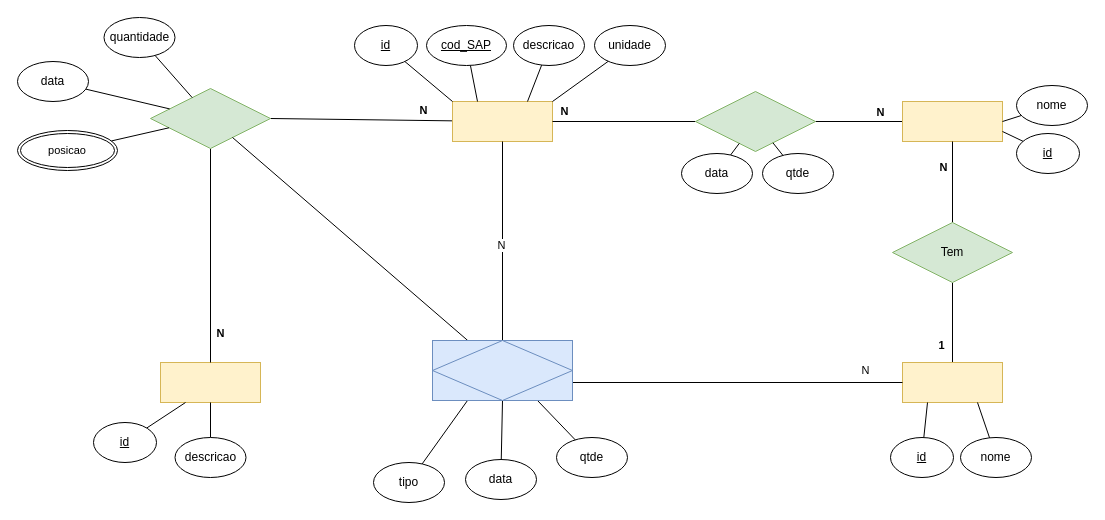
The diagram is 1105 pixels wide and 520 high, and some of its shapes have lost their labels. The shapes that lost their labels are listed below. From the top down, each one's centre as x and y in pixels, then its label:
the point at 210,118: Esta
the point at 502,121: MATERIAL
the point at 755,121: Utiliza
the point at 952,121: TURMA
the point at 210,382: ARMAZEM
the point at 502,370: Movimenta
the point at 952,382: PROFESSOR
